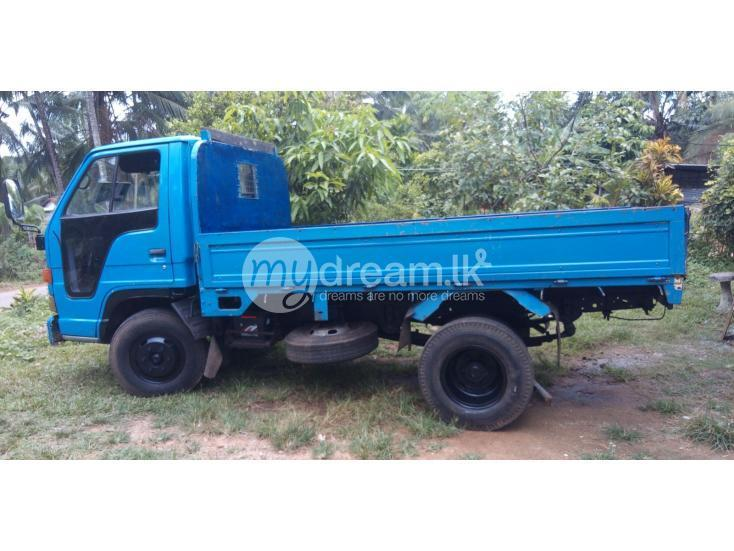truck: (2, 128, 690, 433)
